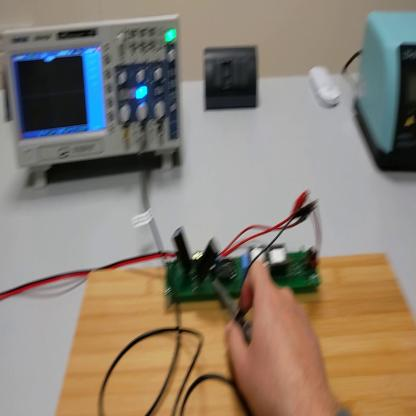hand: (229, 260, 332, 416)
high voltage board: (164, 190, 331, 297)
oscilloscope: (3, 17, 183, 189)
oscilloscope probe tip: (215, 274, 259, 336)
socket: (4, 74, 16, 125)
welder station: (354, 9, 416, 175)
working area: (58, 255, 416, 416)
